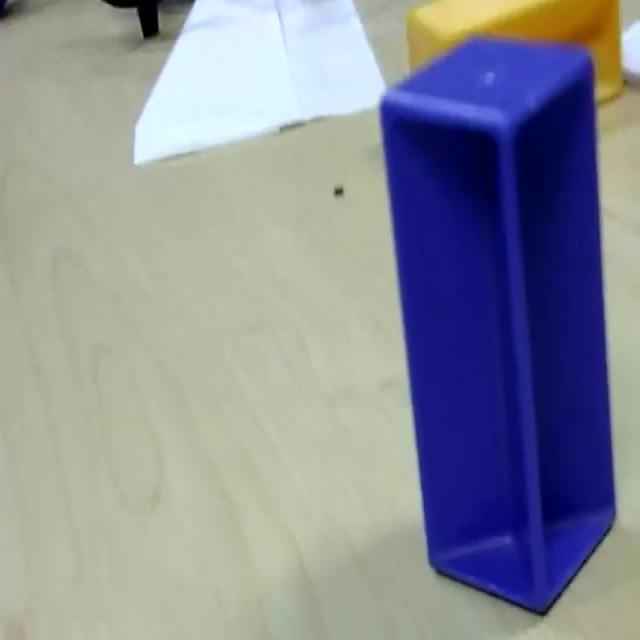blue_block: (378, 33, 618, 615)
yellow_block: (405, 0, 624, 104)
